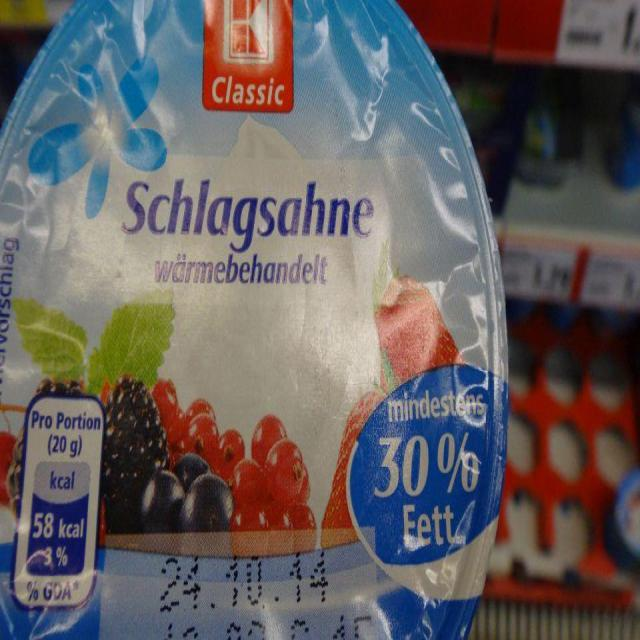Cream: (0, 0, 507, 638)
